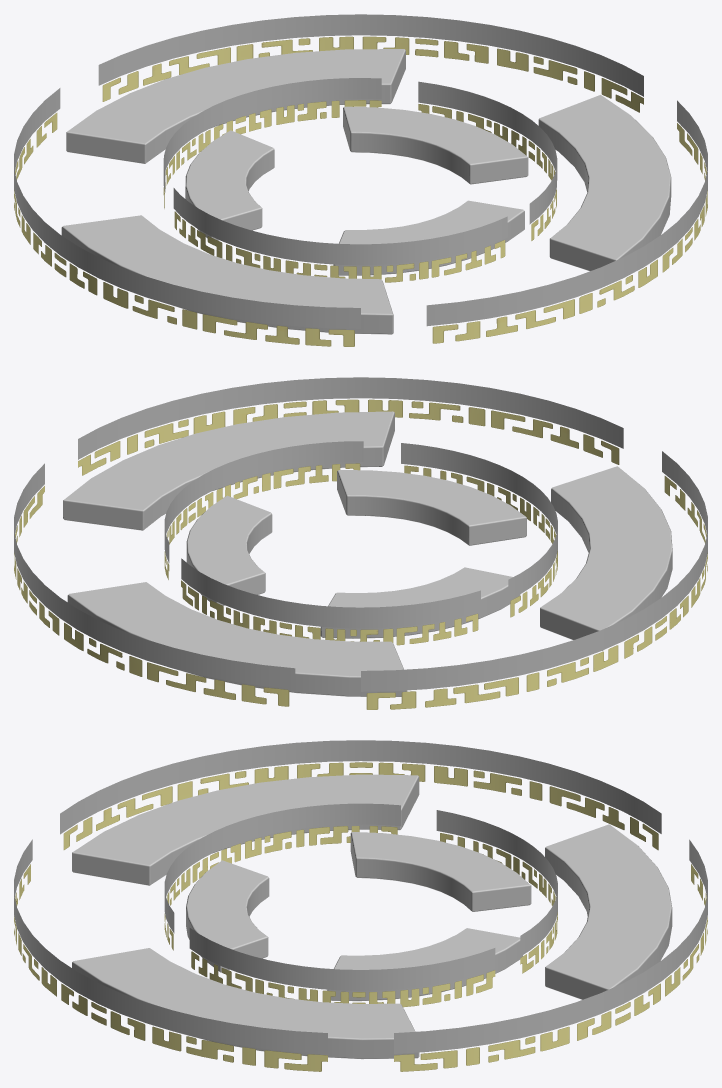
The model's file is EN0011_Halo.fbx.
3 renders of one model, top to bottom at view 1: azimuth 30°, elevation 25°; view 2: azimuth 150°, elevation 25°; view 3: azimuth 270°, elevation 25°, orthographic.
Parts seen in each view (by area): view 1: EN0011_Original_03_Halo1; view 2: EN0011_Original_03_Halo1; view 3: EN0011_Original_03_Halo1.
Part boxes in pixels (left/top/right/bottom): EN0011_Original_03_Halo1: left=14, top=14, right=707, bottom=346; EN0011_Original_03_Halo1: left=14, top=377, right=707, bottom=709; EN0011_Original_03_Halo1: left=14, top=740, right=707, bottom=1071.
Size of the model in its own units: 1.82 by 0.118 by 1.82.
